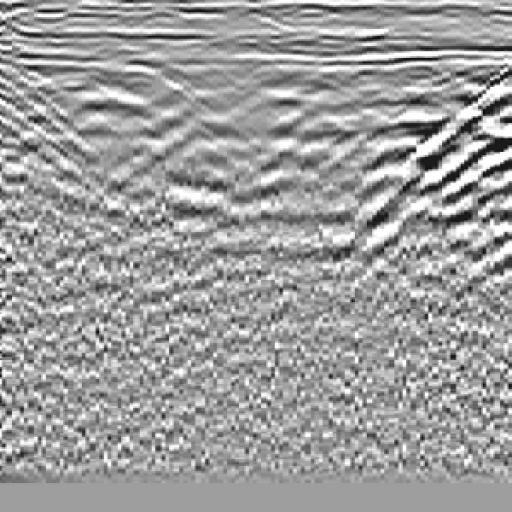metalic: (138, 51, 303, 280)
nonmetalic: (345, 38, 512, 294)
